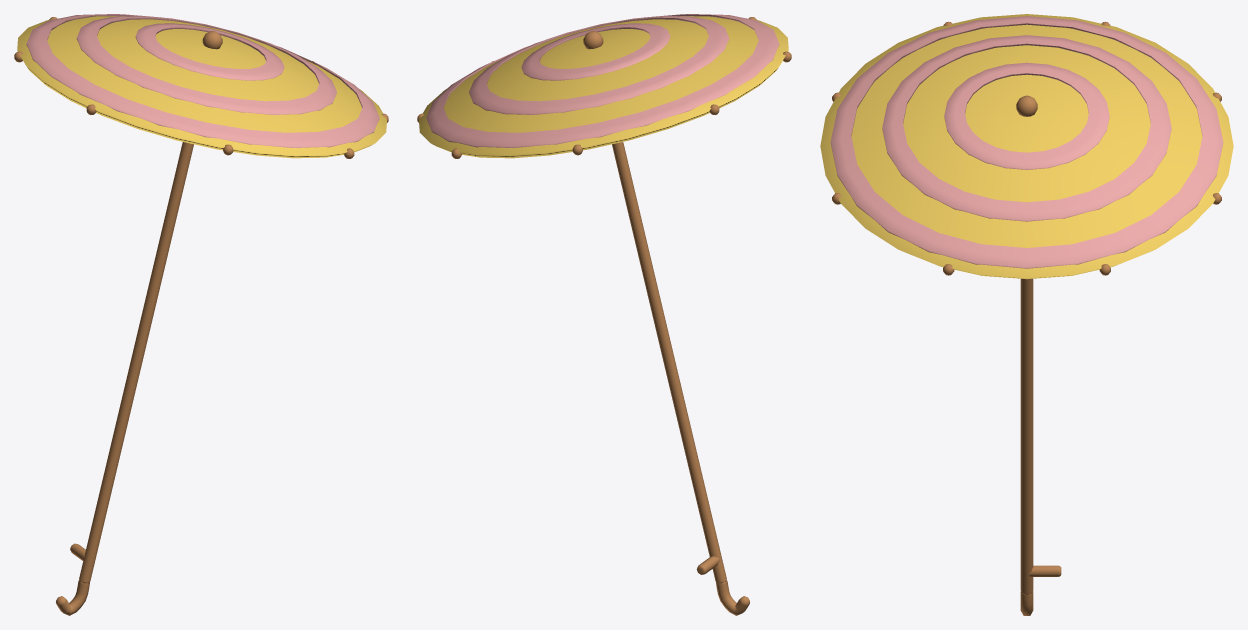
Rendered from exquisite_parasol.glb.
The picture shows the model from 3 angles, left to right: view 1: azimuth 30°, elevation 25°; view 2: azimuth 150°, elevation 25°; view 3: azimuth 270°, elevation 25°; orthographic projection. The views are drawn at different scales.
Parts seen in each view (by area): view 1: exquisite_parasol_ArmR; view 2: exquisite_parasol_ArmR; view 3: exquisite_parasol_ArmR.
Part boxes in pixels (x1,y1,x2,y2): exquisite_parasol_ArmR: [14, 14, 388, 615]; exquisite_parasol_ArmR: [417, 14, 791, 615]; exquisite_parasol_ArmR: [820, 14, 1233, 615].
Bounding box in the file's own units: 0.8703 × 1.43 × 0.9.
